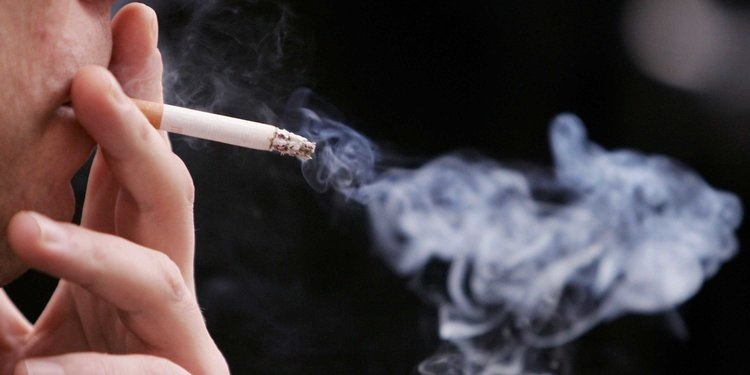sigaretta: (101, 84, 322, 172)
